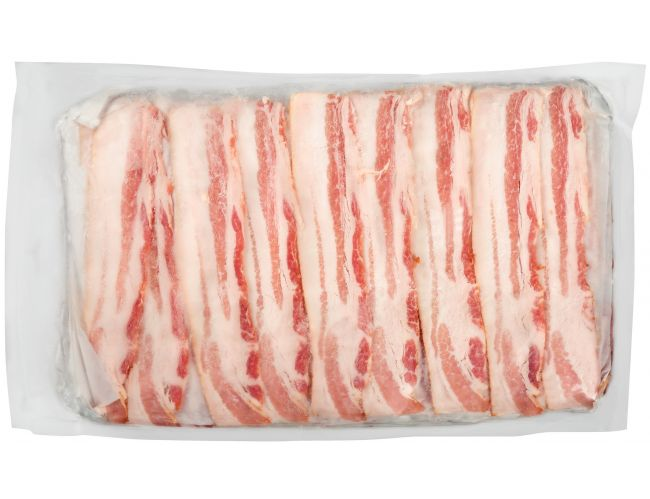bacon: (79, 93, 614, 430)
